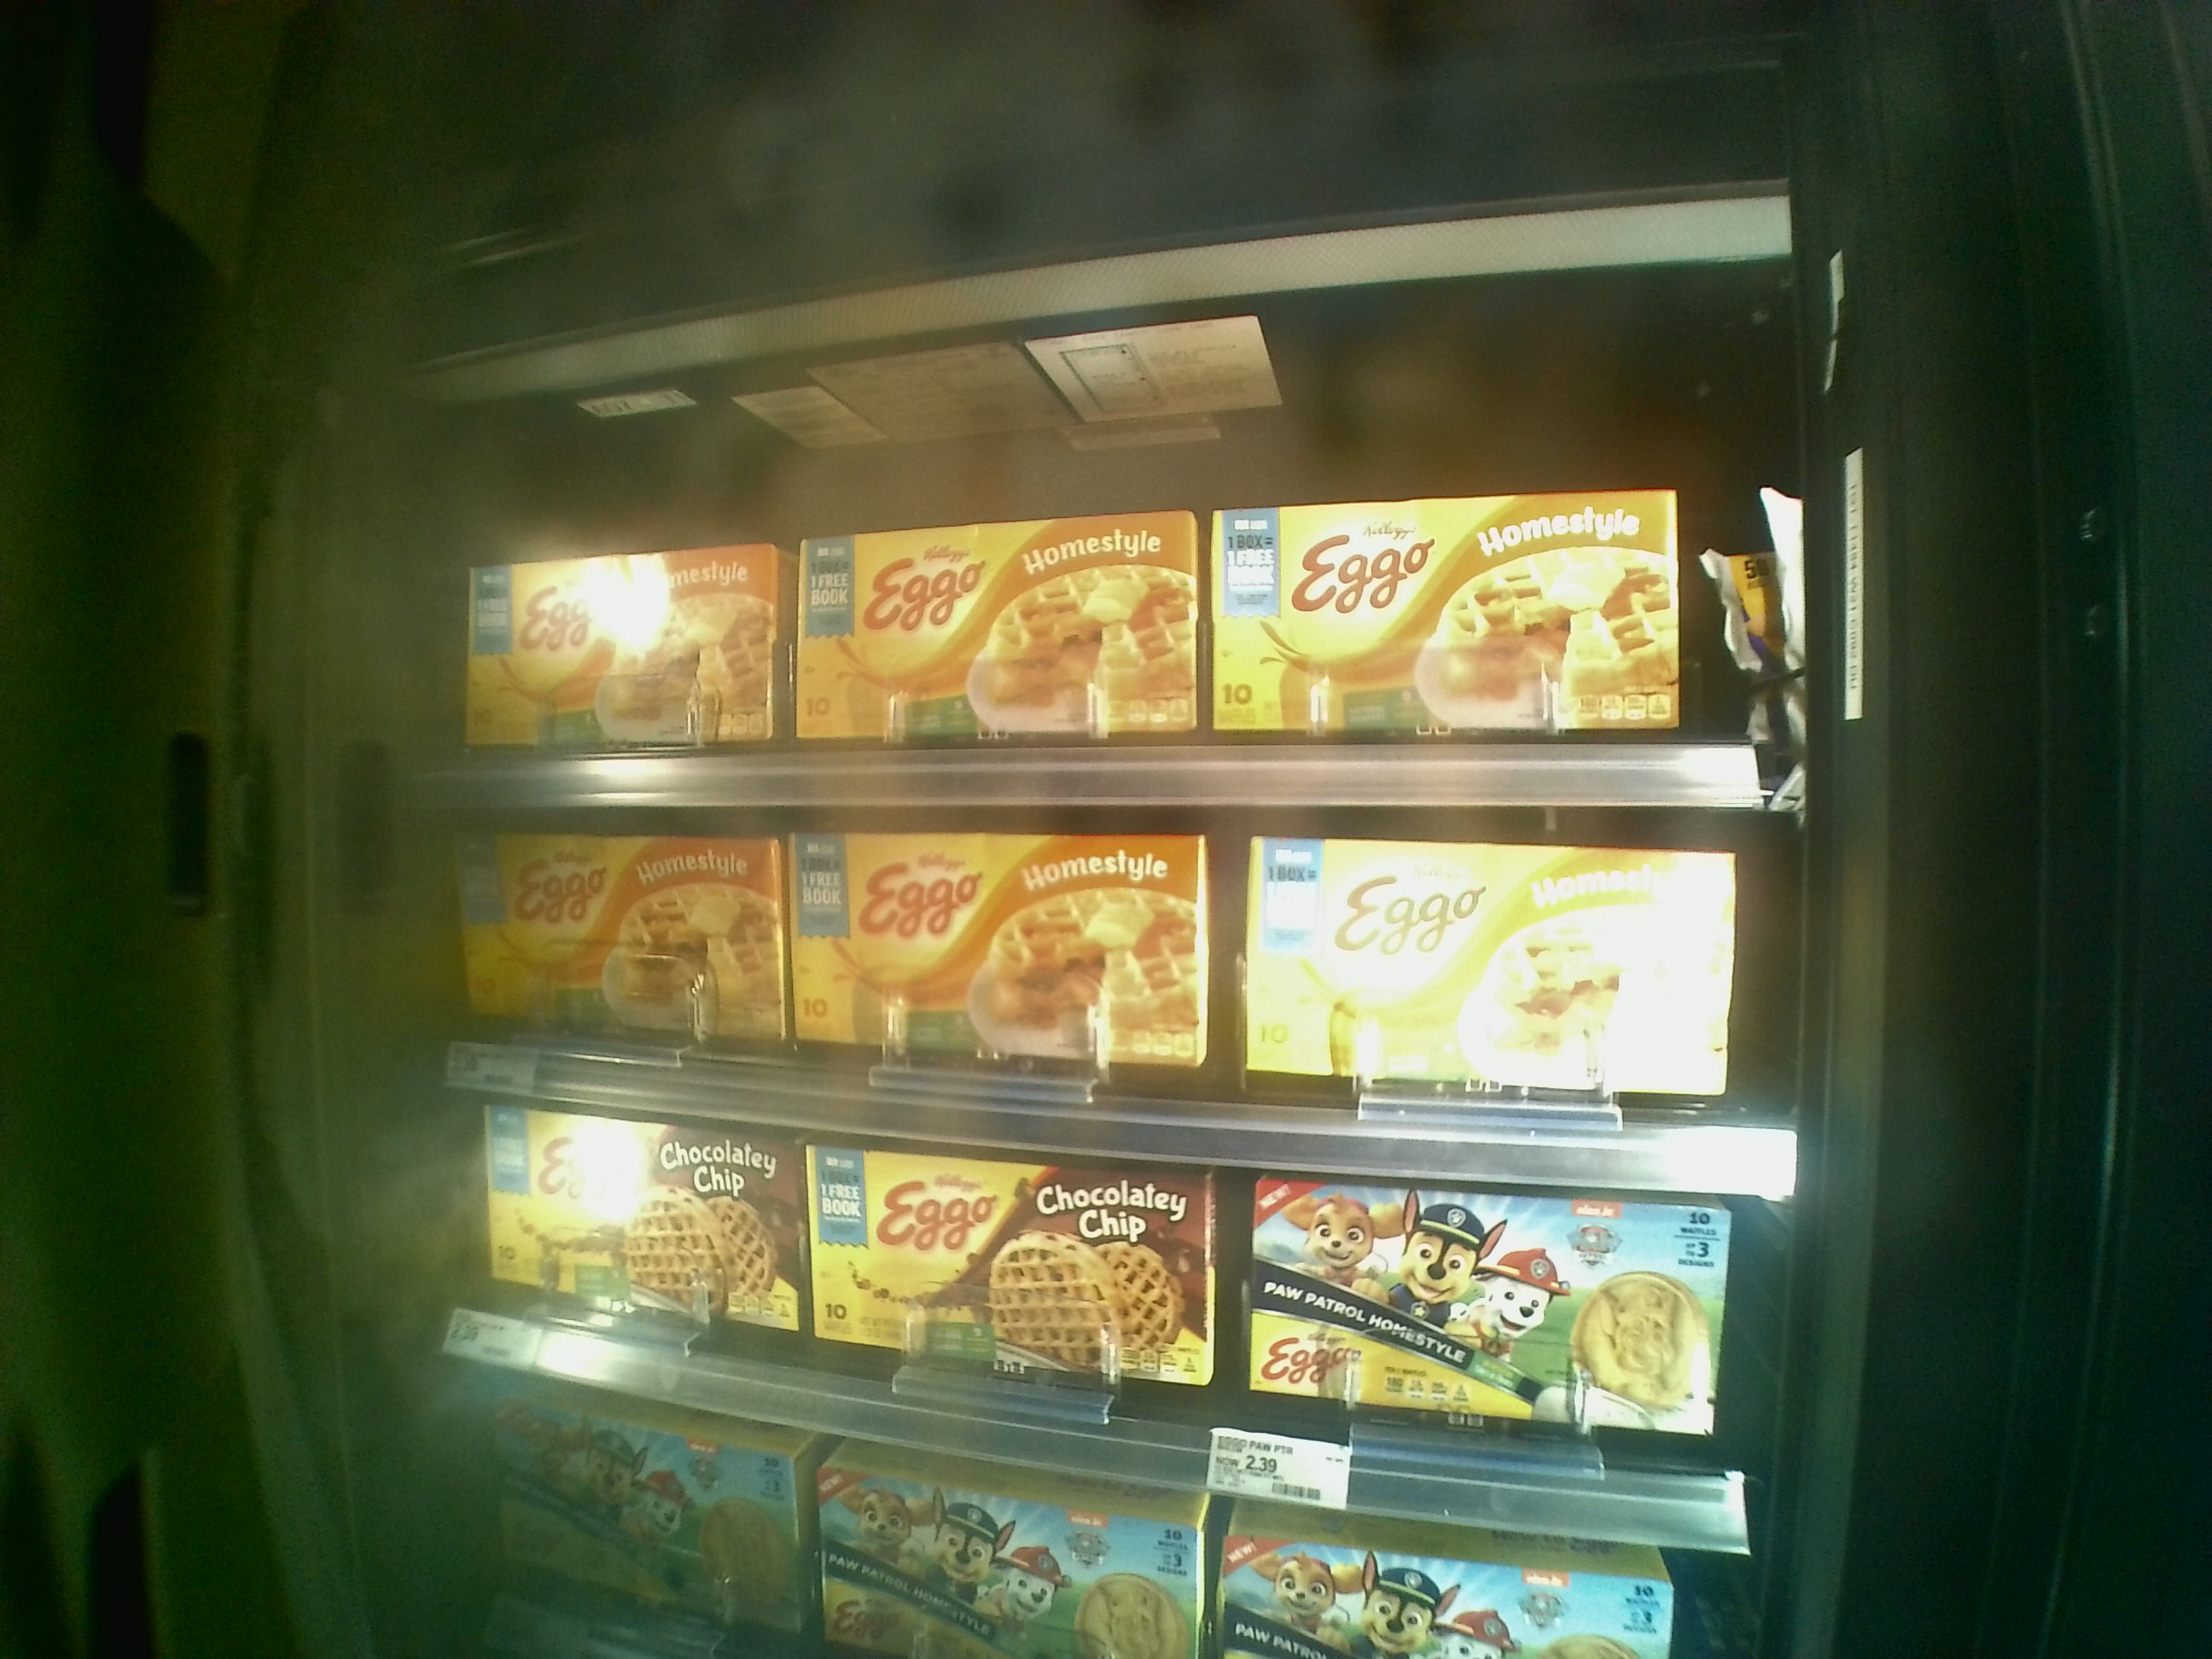shelf: (434, 340, 1801, 812), (449, 1098, 1797, 1570), (446, 779, 1839, 1208)
